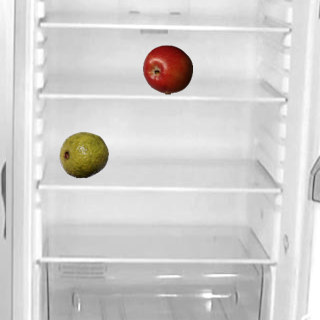Apple Braeburn: (142, 44, 192, 94)
Guava: (58, 129, 108, 179)
